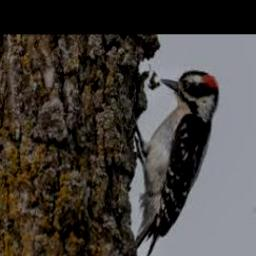Woodpecker: (134, 70, 220, 256)
